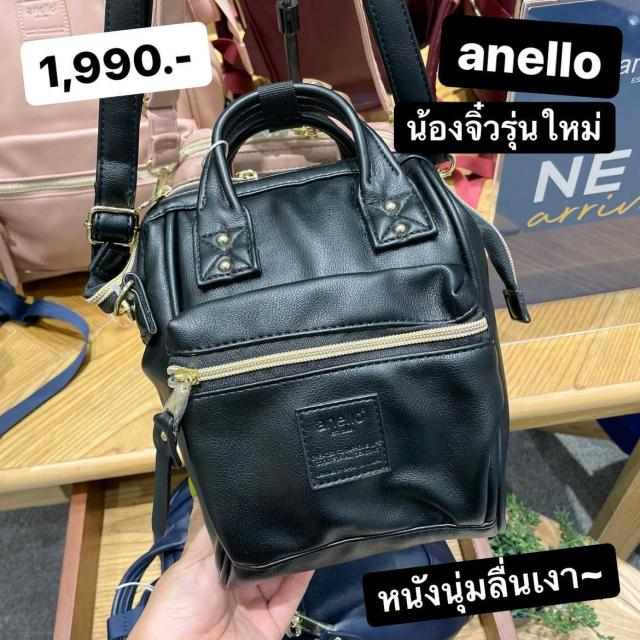Handbag: (131, 81, 525, 582)
